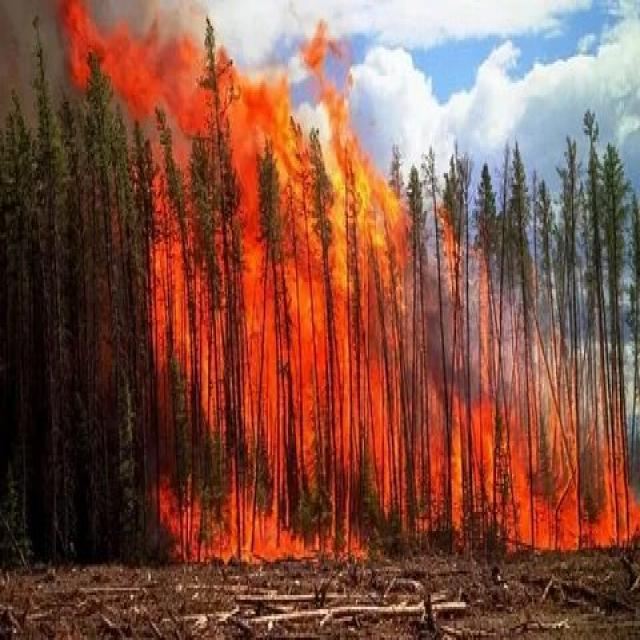Fire: (110, 0, 495, 579)
